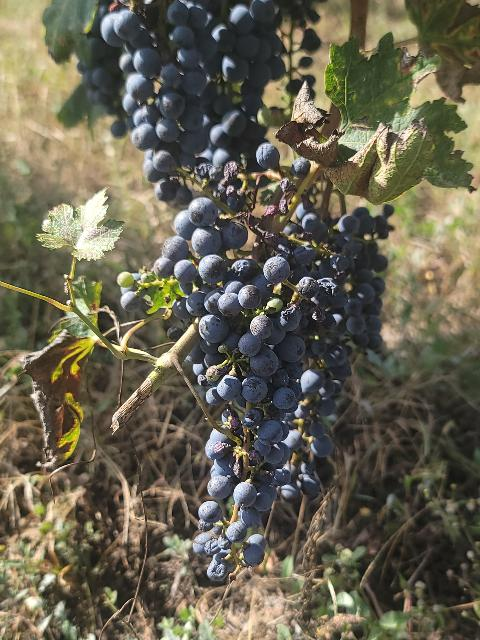grapes: (174, 198, 335, 385), (99, 2, 218, 174), (195, 359, 285, 580), (209, 0, 285, 165), (314, 208, 391, 350), (284, 342, 351, 459)
